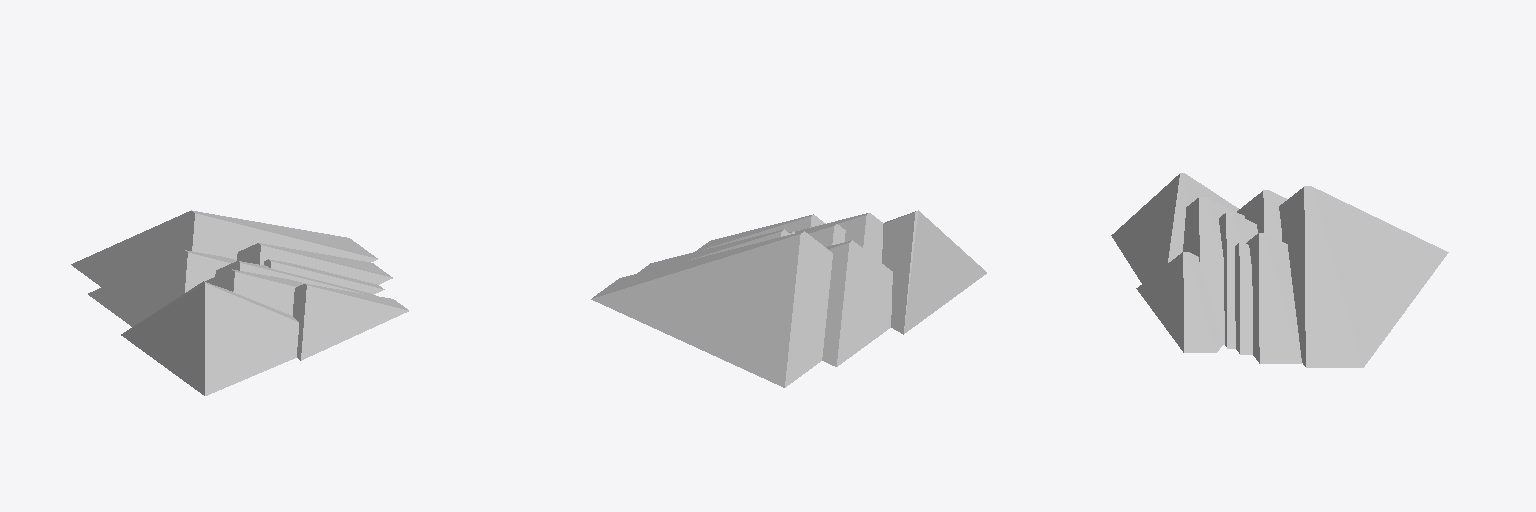
Rendered from BGmountain14.obj.
The picture shows the model from 3 angles: view 1: azimuth 30°, elevation 25°; view 2: azimuth 150°, elevation 25°; view 3: azimuth 270°, elevation 25°; orthographic projection.
Parts seen in each view (by area): view 1: polySurface1; view 2: polySurface1; view 3: polySurface1.
Part boxes in pixels (left/top/right/bottom): polySurface1: left=71, top=210, right=408, bottom=395; polySurface1: left=591, top=210, right=986, bottom=387; polySurface1: left=1111, top=173, right=1448, bottom=367.
Bounding box in the file's own units: 3514 × 1133 × 3790.